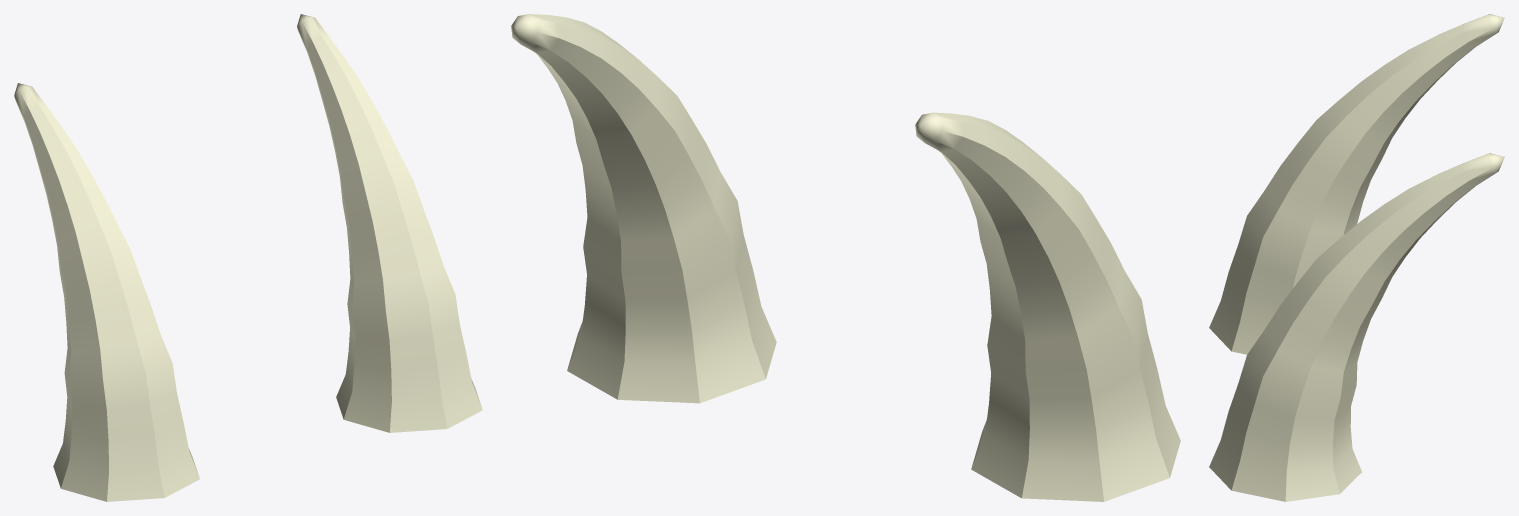
Rendered from tooth_tusk.glb.
The picture shows the model from 3 angles, left to right: view 1: azimuth 30°, elevation 25°; view 2: azimuth 150°, elevation 25°; view 3: azimuth 270°, elevation 25°; orthographic projection. The views are drawn at different scales.
Visible parts, largest first — view 1: tooth_tusk; view 2: tooth_tusk; view 3: tooth_tusk.
Part boxes in pixels (box(x1,y1,x2,y2)): tooth_tusk: box(14, 14, 482, 501); tooth_tusk: box(511, 14, 1180, 501); tooth_tusk: box(1209, 14, 1504, 501).
Size of the model in its own units: 0.381 by 0.2773 by 0.2336.
